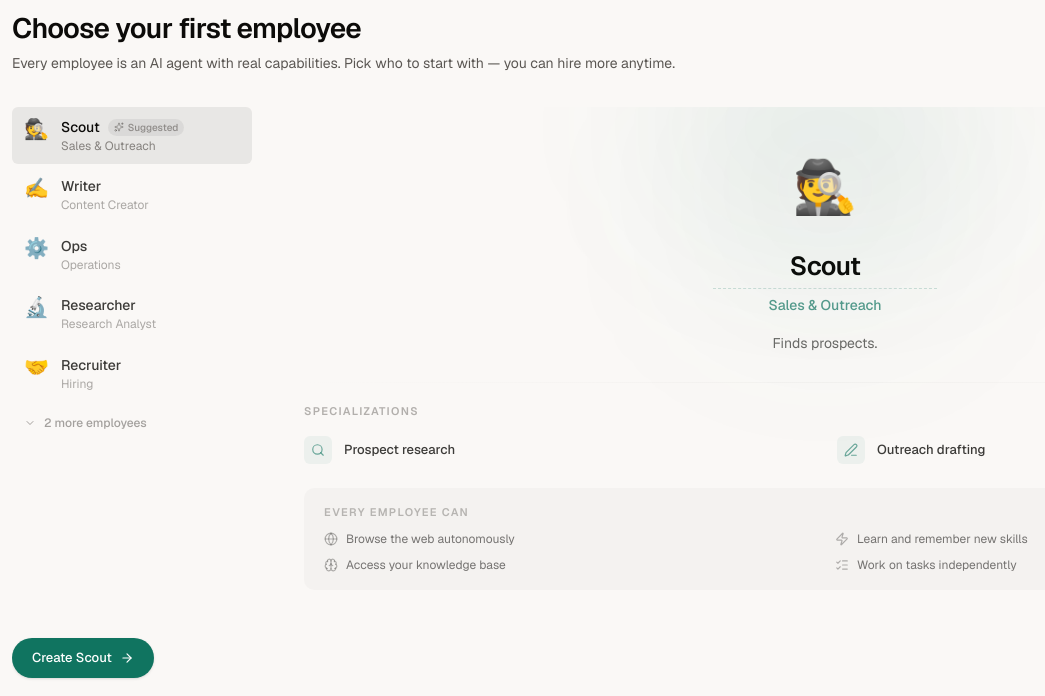
Test: StepAgent › name input allows customization
The image size is (1045, 696).
Type "Ranger" into the field showing "Scout" at point(825, 268), box [713, 247, 937, 289]
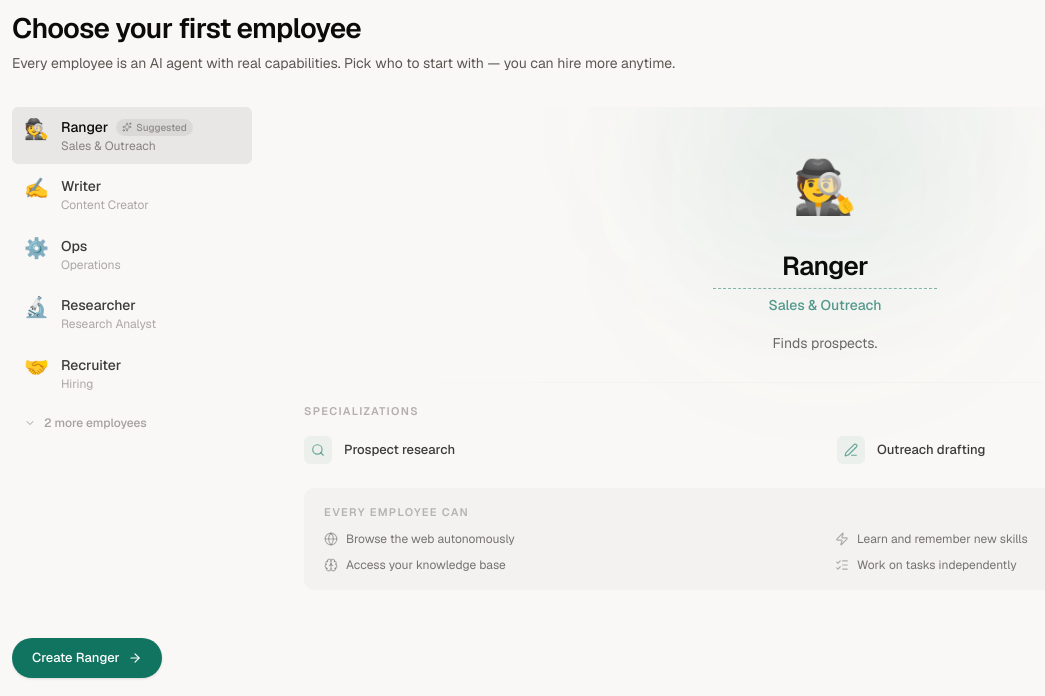
Check: the button "Create Ranger" is shown, box [12, 638, 162, 678]
